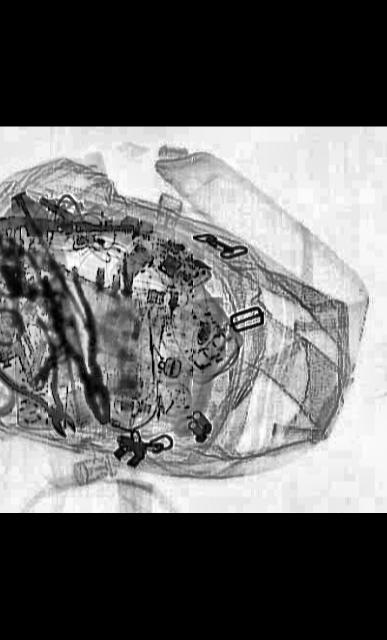Pliers: (37, 266, 128, 426), (0, 312, 106, 443)
